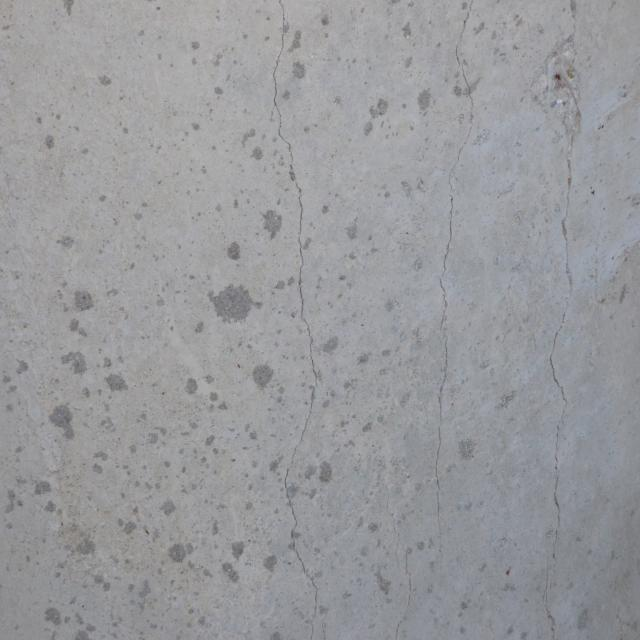corrosion: (552, 72, 563, 82)
